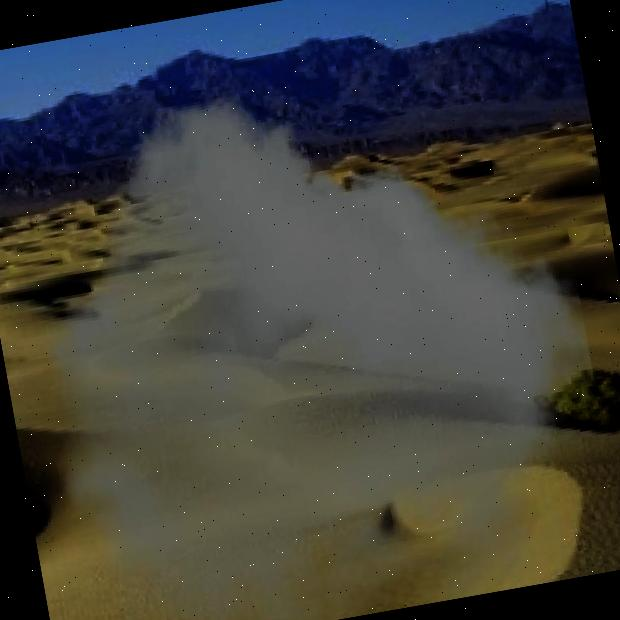smoke: (0, 43, 620, 620)
